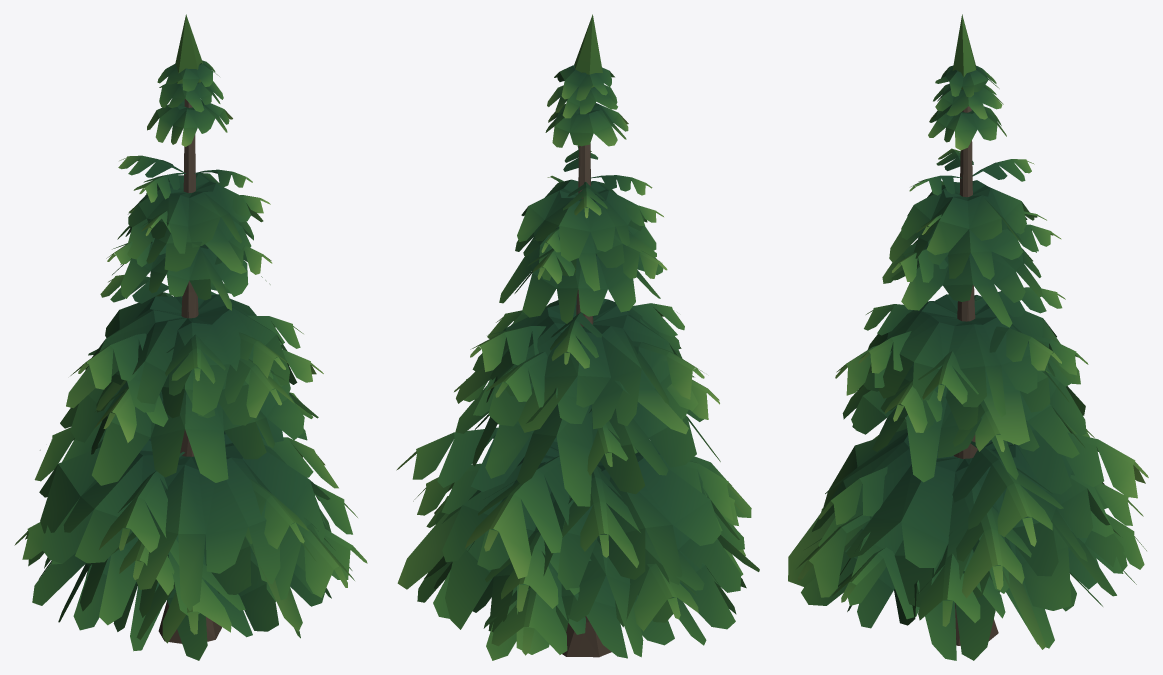
Rendered from spruce_M_normal_std_layered_s6.glb.
3 renders of one model, left to right at view 1: azimuth 30°, elevation 25°; view 2: azimuth 150°, elevation 25°; view 3: azimuth 270°, elevation 25°, orthographic. The views are drawn at different scales.
Parts seen in each view (by area): view 1: Tree; view 2: Tree; view 3: Tree.
Boxes of the visible parts, left/top/right/bottom form: Tree: left=14, top=14, right=367, bottom=660; Tree: left=396, top=14, right=759, bottom=660; Tree: left=788, top=14, right=1148, bottom=660.
Size of what is drawn, in the model's own units: 3.01 by 5.98 by 3.18.
